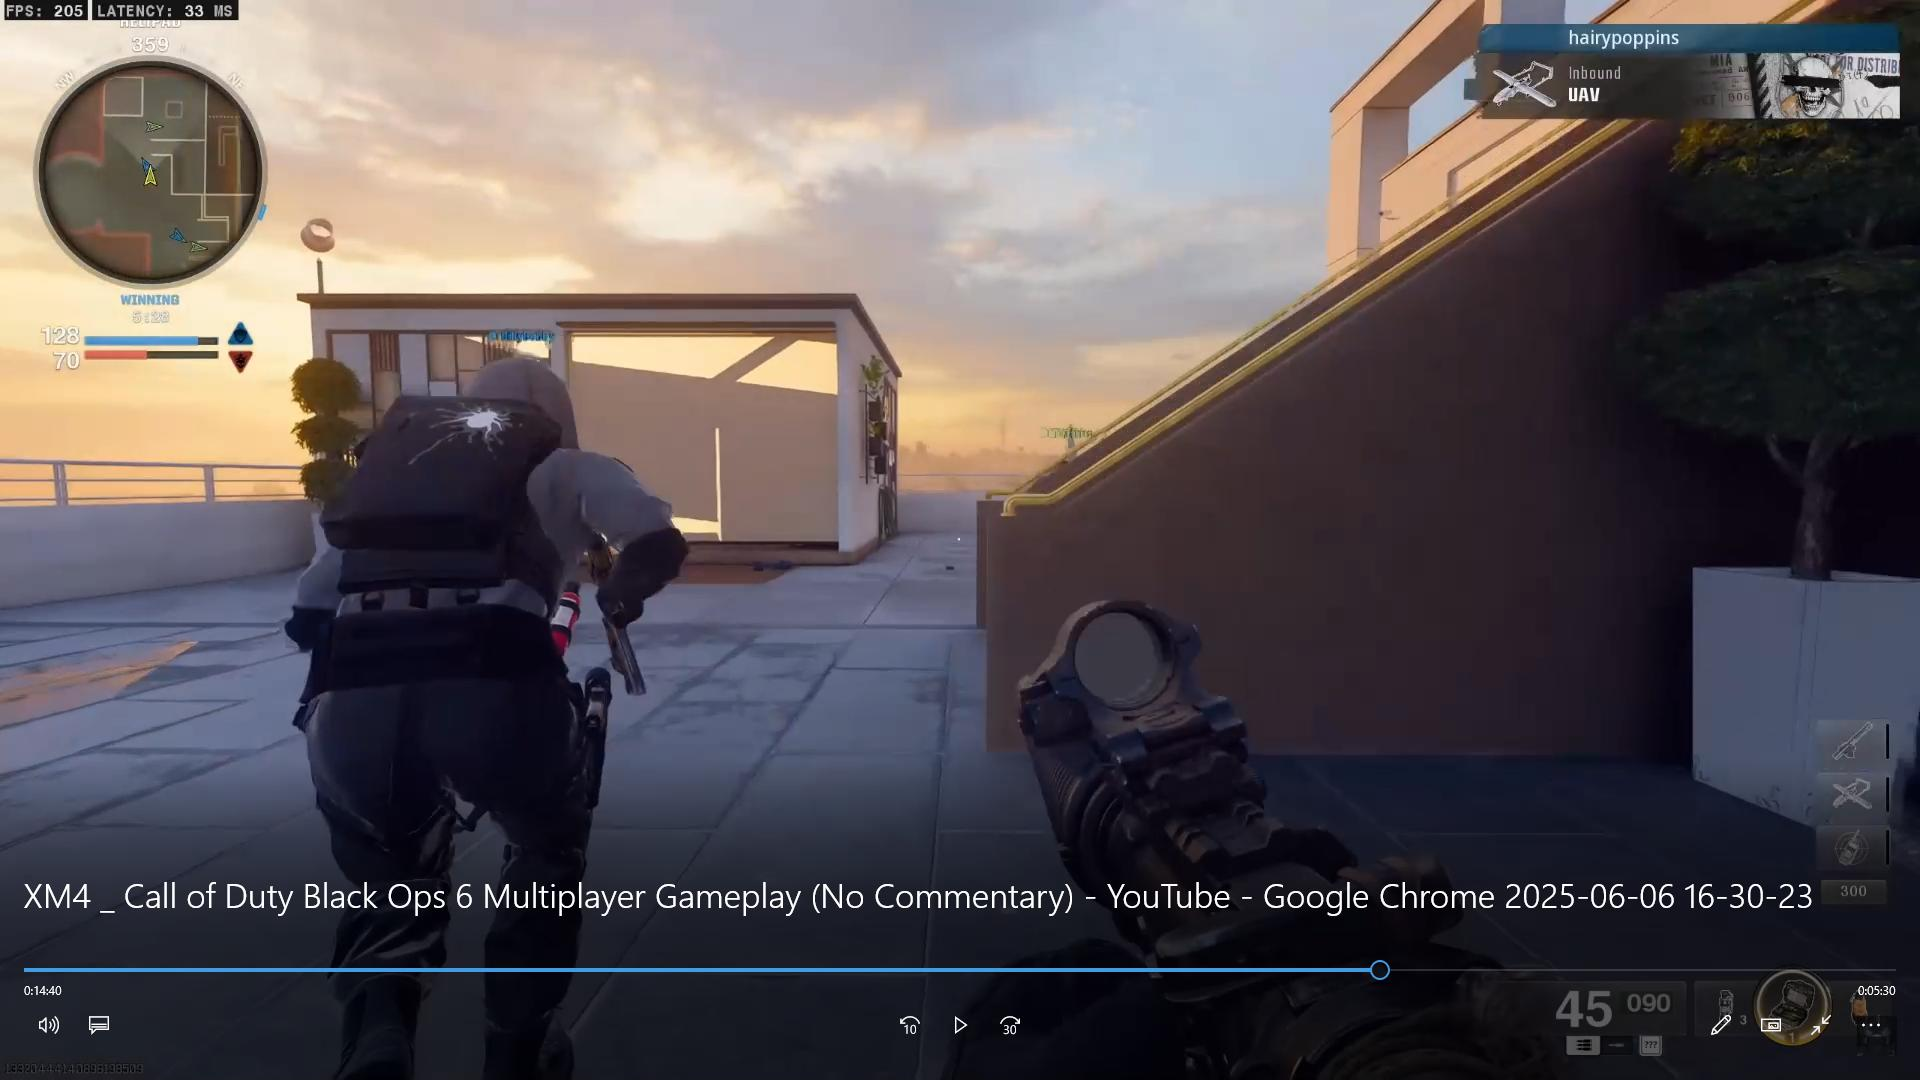Enemy: (290, 324, 624, 849)
